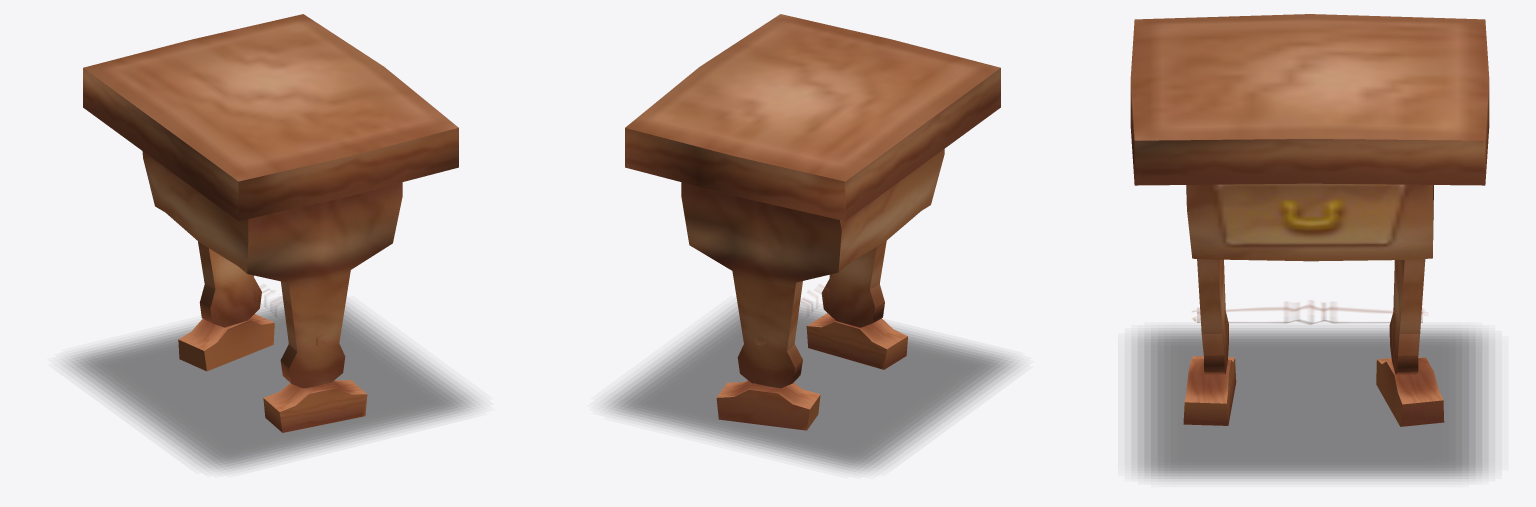
File: table_radio.glb
3 views of the same model, side by side, from view 1: azimuth 30°, elevation 25°; view 2: azimuth 150°, elevation 25°; view 3: azimuth 270°, elevation 25° (orthographic). The views are drawn at different scales.
Parts seen in each view (by area): view 1: RADIOTABLE_Top, pPlane1, RADIOTABLE_Feet_l1, RADIOTABLE_Feet_l; view 2: RADIOTABLE_Top, pPlane1, RADIOTABLE_Feet_l, RADIOTABLE_Feet_l1; view 3: RADIOTABLE_Top, pPlane1, RADIOTABLE_Feet_l, RADIOTABLE_Feet_l1, RADIOTABLE_Spindle_a.
Part boxes in pixels (x1=…): RADIOTABLE_Top: x1=83, y1=14, x2=458, y2=388; pPlane1: x1=66, y1=304, x2=477, y2=470; RADIOTABLE_Feet_l1: x1=263, y1=380, x2=367, y2=432; RADIOTABLE_Feet_l: x1=178, y1=314, x2=274, y2=371; RADIOTABLE_Top: x1=625, y1=14, x2=1000, y2=388; pPlane1: x1=603, y1=304, x2=1017, y2=471; RADIOTABLE_Feet_l: x1=716, y1=380, x2=820, y2=430; RADIOTABLE_Feet_l1: x1=806, y1=313, x2=907, y2=369; RADIOTABLE_Top: x1=1130, y1=14, x2=1489, y2=374; pPlane1: x1=1131, y1=328, x2=1488, y2=478; RADIOTABLE_Feet_l: x1=1376, y1=356, x2=1444, y2=426; RADIOTABLE_Feet_l1: x1=1183, y1=356, x2=1236, y2=425; RADIOTABLE_Spindle_a: x1=1192, y1=300, x2=1424, y2=324.
Bounding box in the file's own units: 0.0484 × 0.0417 × 0.0484.
6 materials, 6 textured.
